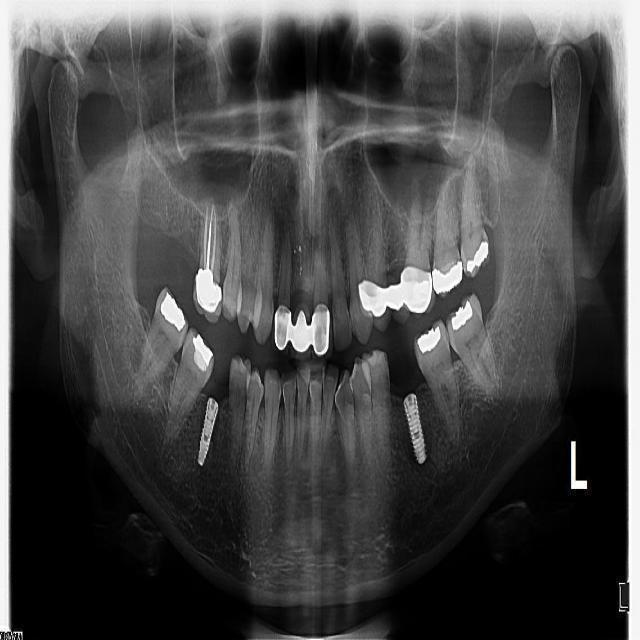Crown: (358, 280, 391, 333), (401, 266, 435, 317), (193, 274, 221, 325), (310, 302, 333, 362), (383, 276, 410, 324), (289, 302, 311, 360), (432, 259, 463, 294), (271, 304, 290, 356)
Filling: (161, 292, 184, 333), (192, 332, 213, 369), (466, 240, 488, 274), (417, 326, 442, 353), (452, 299, 472, 331), (198, 267, 213, 293)
Implant: (403, 394, 427, 464), (198, 397, 220, 466)
Missing teeth: (163, 237, 203, 307)
Root Canal Treatment: (211, 206, 217, 273), (204, 207, 207, 268), (210, 203, 214, 224)
